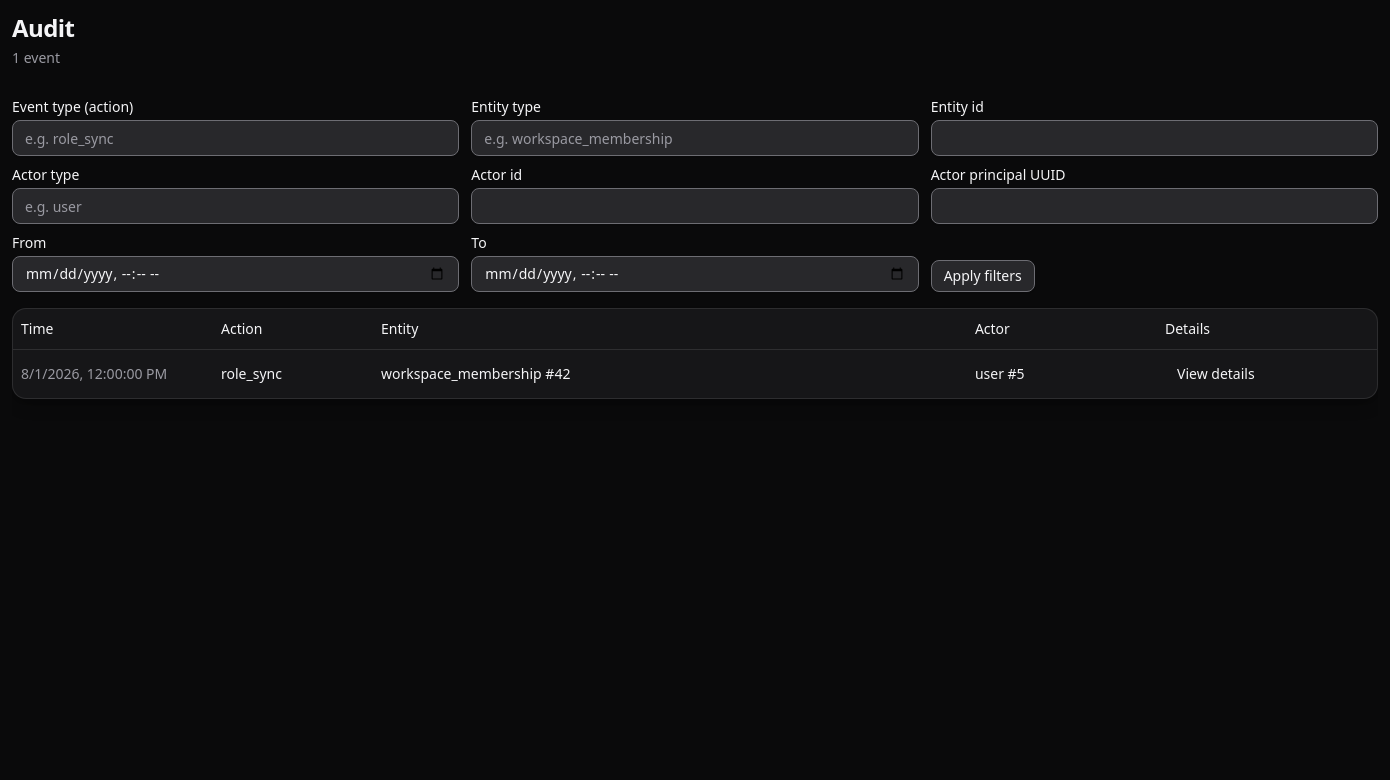
it: AuditPage › shows sensitive evidence only inside an explicit escaped detail disclosure
expect the table is shown: met, box [13,309,1377,398]
expect the text "203.0.113.7" is not shown: met
Click the button "View details". click: (1216, 374)
box: [1165,358,1267,390]
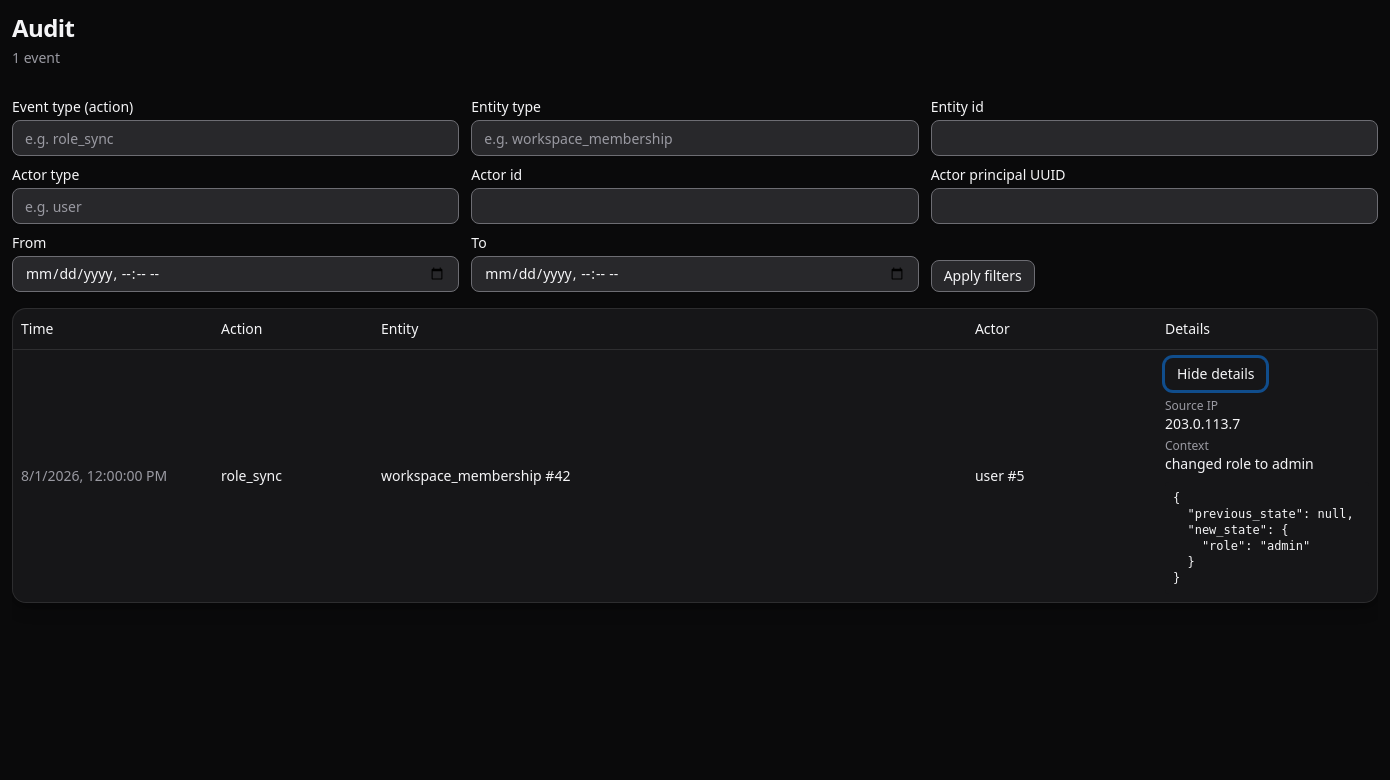
expect the text "203.0.113.7" is shown: met, box [1165,414,1240,432]
expect the text "changed role to admin" is shown: met, box [1165,454,1314,472]
